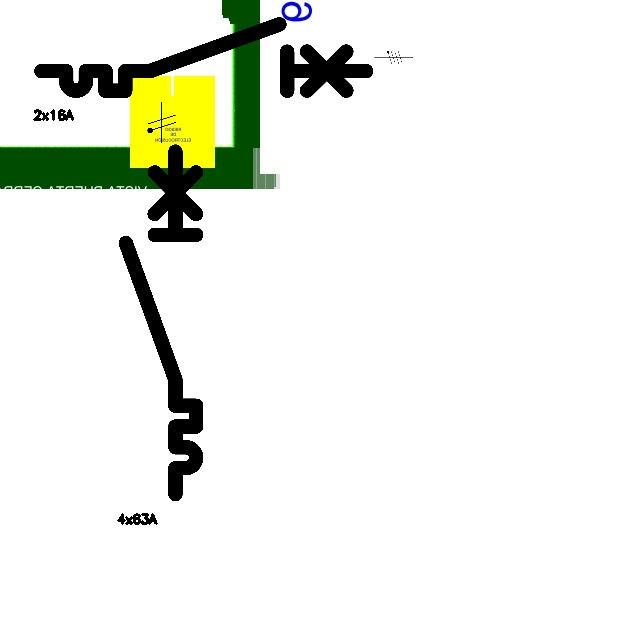interruptor_termomagnetico: (117, 142, 205, 502), (33, 16, 374, 99)
